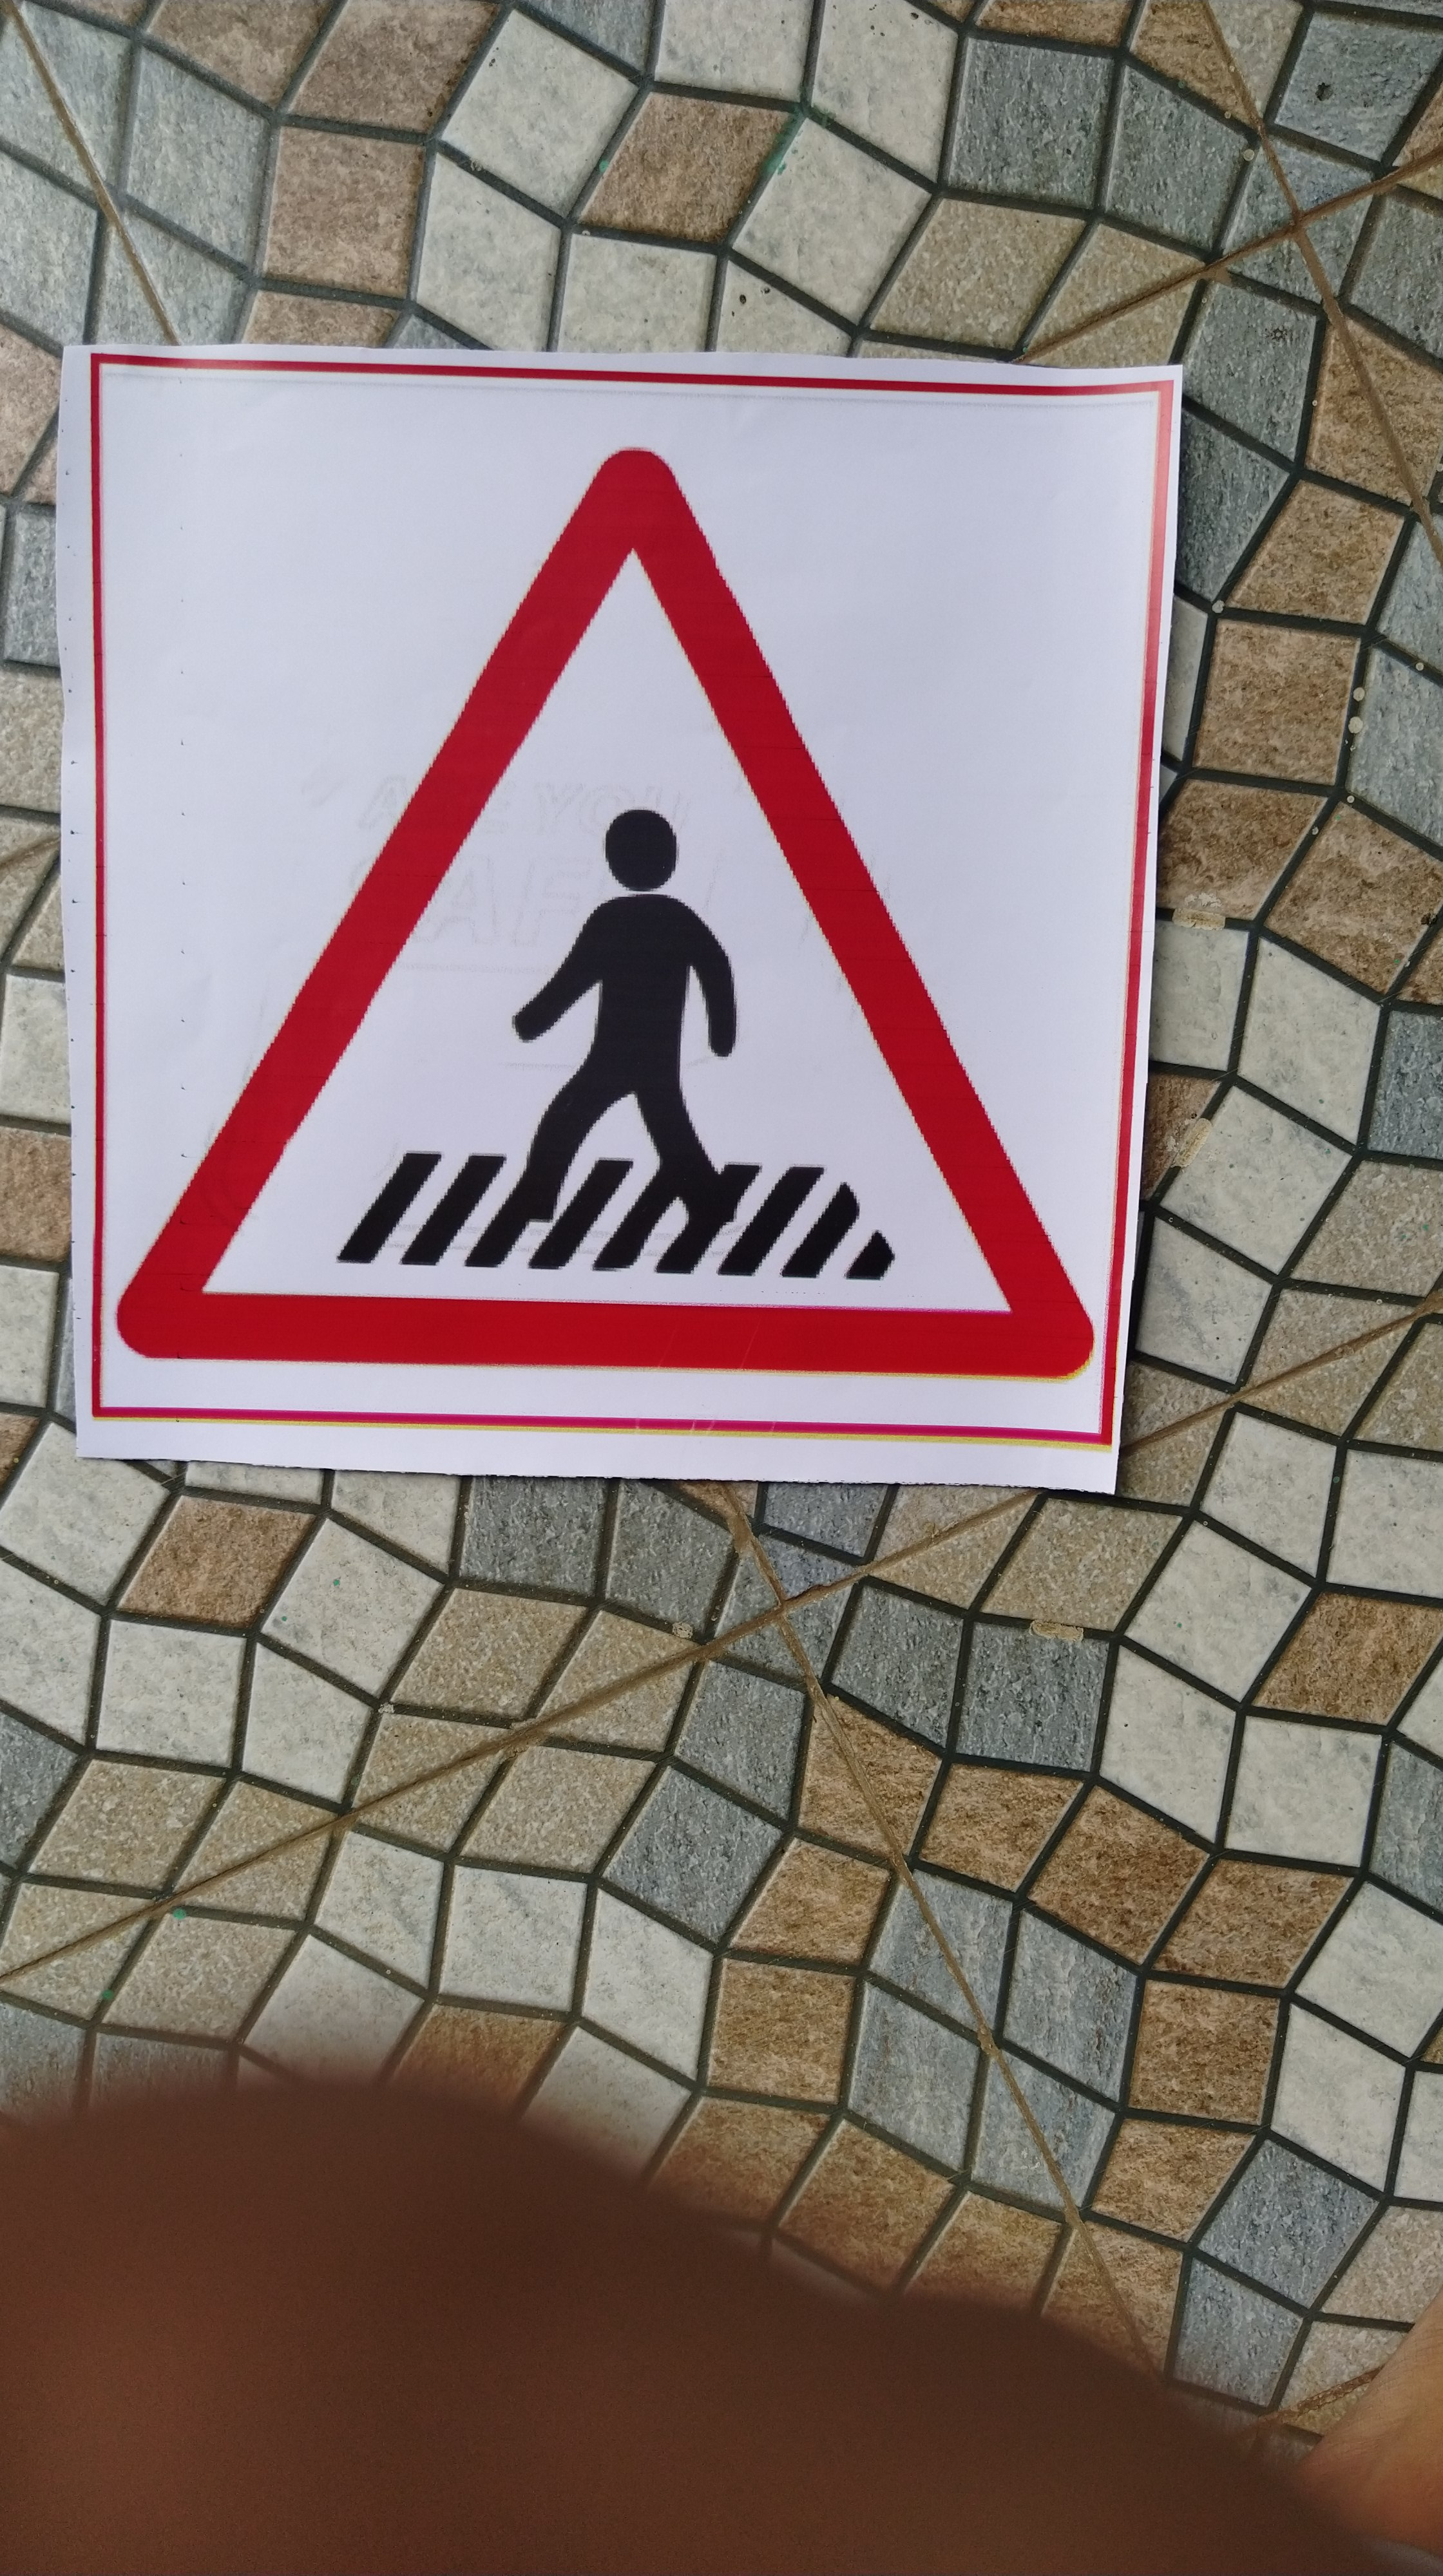pedestrain crossing: (81, 391, 1121, 1461)
